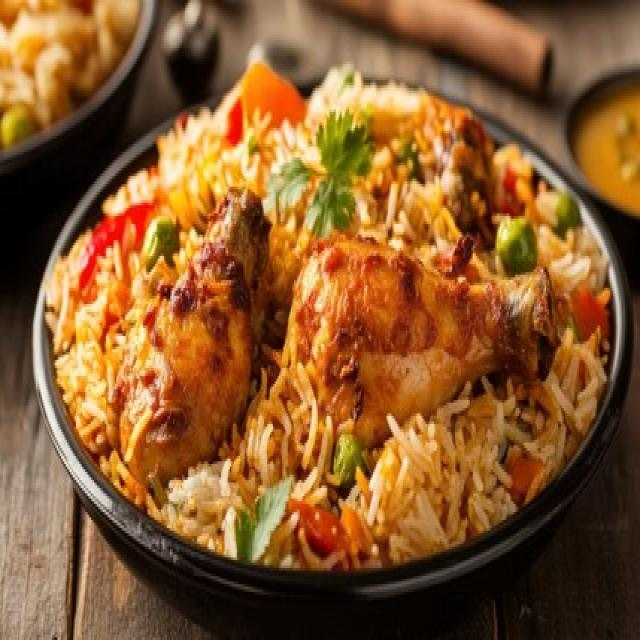BIRIYANI: (45, 57, 614, 568)
SAMBAR: (575, 88, 639, 210)
SUNDAL: (1, 1, 137, 132)
